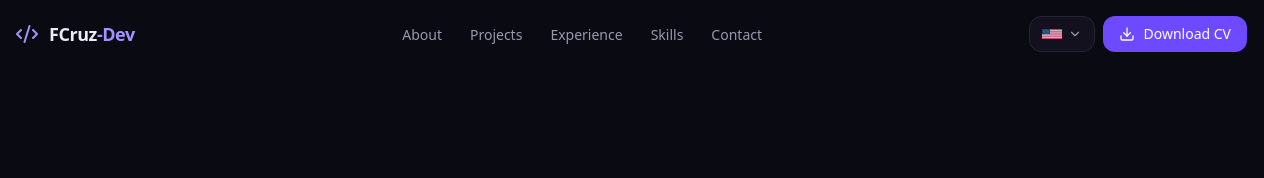
Test: LanguageSwitcher › shows the current flag and lists every language when opened
Click the button: click(1062, 34) x1=1030 y1=16 x2=1096 y2=52
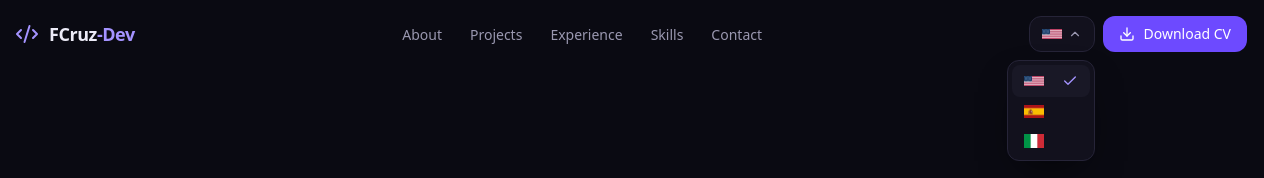
Expected: the button is expanded, x1=1030 y1=16 x2=1096 y2=52
Expected: the number of menu items is 3, x1=1012 y1=65 x2=1090 y2=97; x1=1012 y1=97 x2=1090 y2=126; x1=1012 y1=126 x2=1090 y2=156
